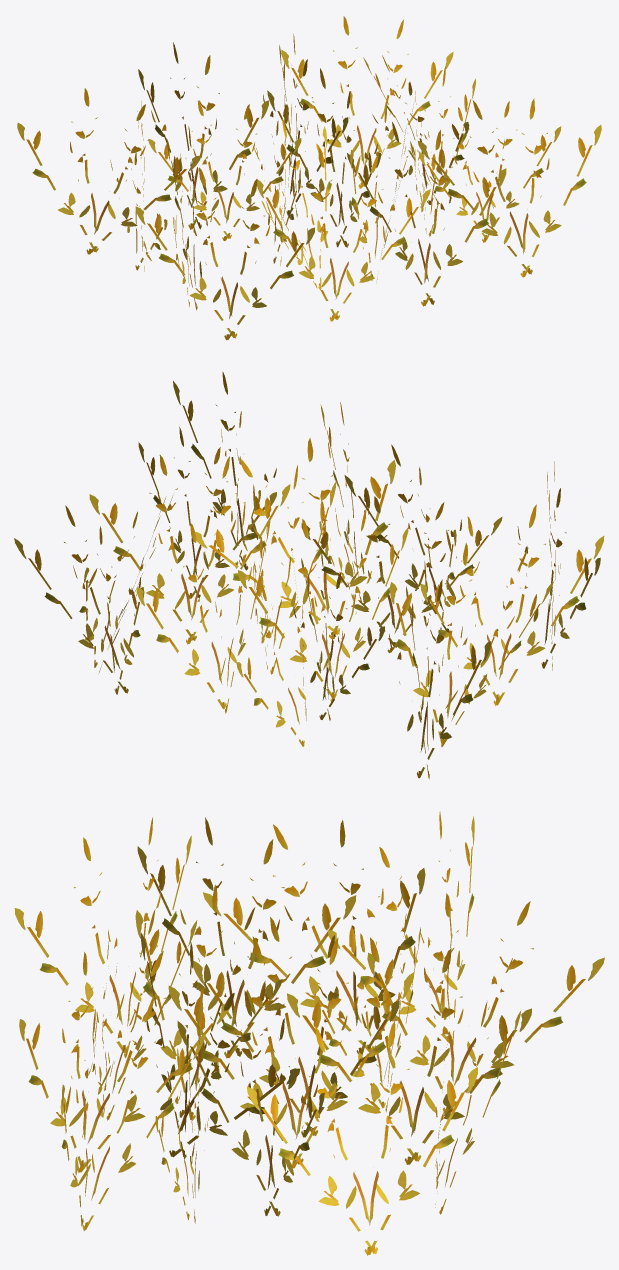
File: wheat_stage_3.fbx
3 views of the same model, one above another, from view 1: azimuth 30°, elevation 25°; view 2: azimuth 150°, elevation 25°; view 3: azimuth 270°, elevation 25° (orthographic). The views are drawn at different scales.
Visible parts, largest first — view 1: Wheat_stage3; view 2: Wheat_stage3; view 3: Wheat_stage3.
Part boxes in pixels (bbox=[...]): Wheat_stage3: bbox=[17, 16, 601, 340]; Wheat_stage3: bbox=[14, 371, 604, 779]; Wheat_stage3: bbox=[14, 811, 604, 1255].
Size of the model in its own units: 571 by 235 by 509.
